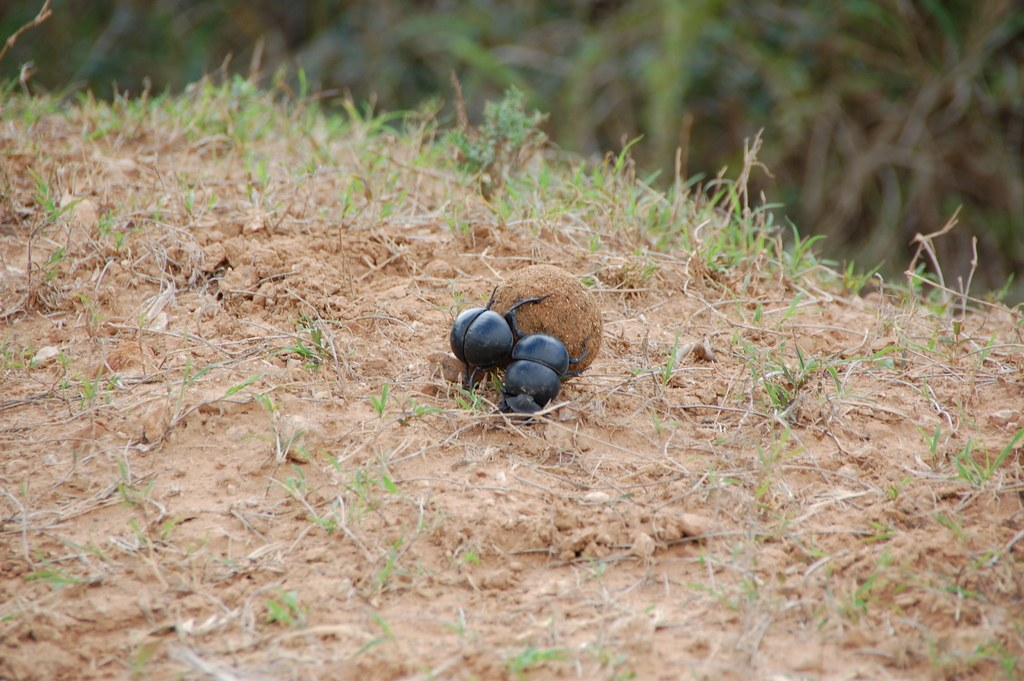insect: (445, 282, 588, 429), (505, 293, 589, 414), (449, 284, 516, 382)
